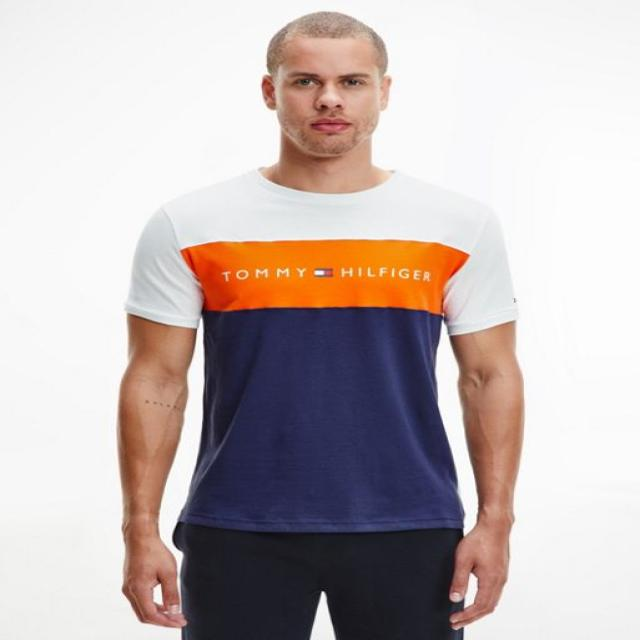tshirt: (121, 165, 520, 536)
